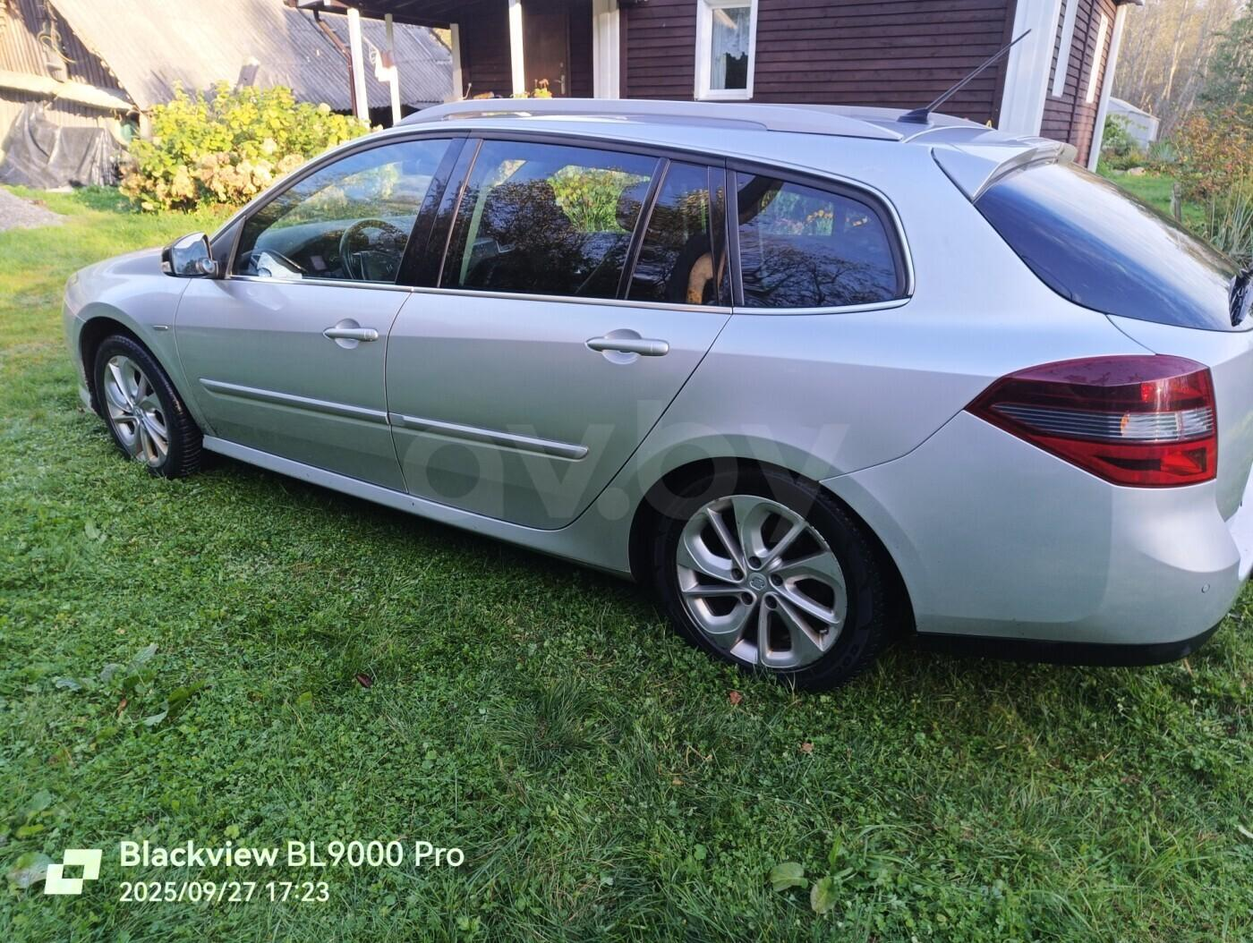Laguna_2010-2015: (61, 79, 1253, 678)
